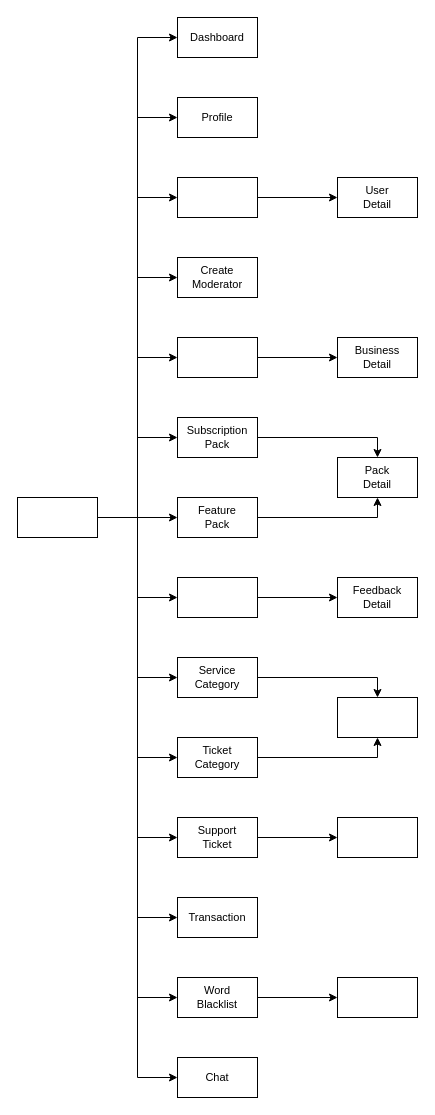
This 435x1115 diagram has some shape labels left out. Here are the shapes that lost their labels. From the top down, the box of each, then its label:
(176, 176, 258, 218): User
(176, 336, 258, 378): Business
(16, 496, 98, 538): Login
(176, 576, 258, 618): Feedback
(336, 696, 418, 738): Category Detail
(336, 816, 418, 858): Ticket Detail
(336, 976, 418, 1018): Add Word
